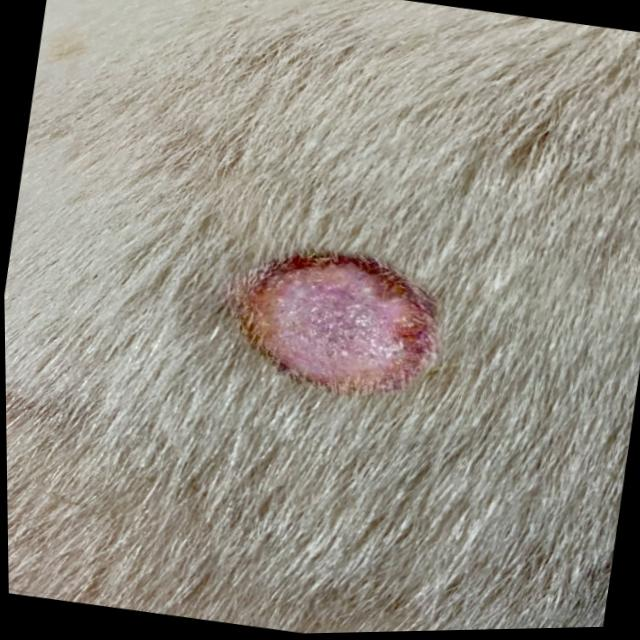ringworm: (194, 233, 484, 423)
